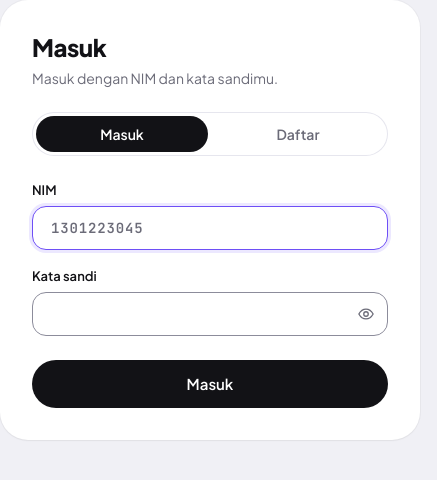
Test: AuthCard › menolak kolom kosong tanpa memanggil server
Click the button "Masuk". click: point(210, 384)
box: x1=32 y1=360 x2=388 y2=408
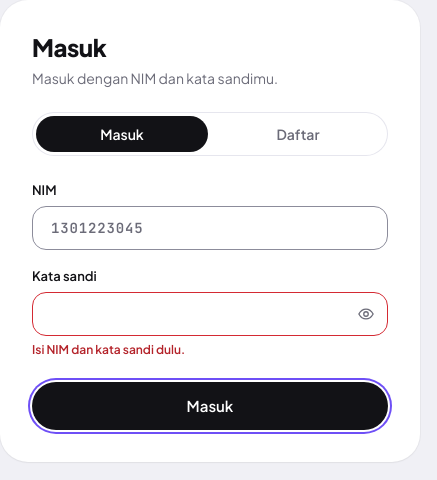
Expected: the message shows "Isi NIM dan kata sandi", x1=32 y1=342 x2=185 y2=357
